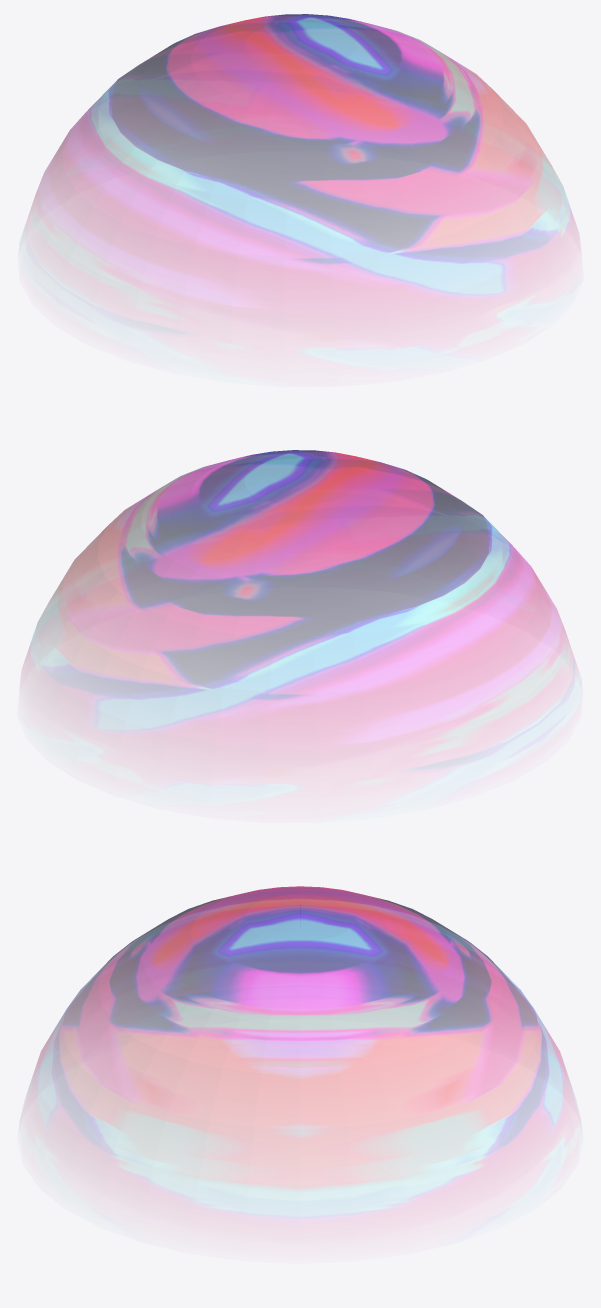
Rendered from 28-pinkblue.glb.
3 views of the same model, one above another, from view 1: azimuth 30°, elevation 25°; view 2: azimuth 150°, elevation 25°; view 3: azimuth 270°, elevation 25° (orthographic).
Visible parts, largest first — view 1: pink-and-blue; view 2: pink-and-blue; view 3: pink-and-blue.
Boxes of the visible parts, <box> form: pink-and-blue: <box>24,14,578,321</box>; pink-and-blue: <box>22,450,576,757</box>; pink-and-blue: <box>25,886,575,1198</box>.
Size of the model in its own units: 6 by 3 by 6.
Materials: 1 (1 with a texture image).
